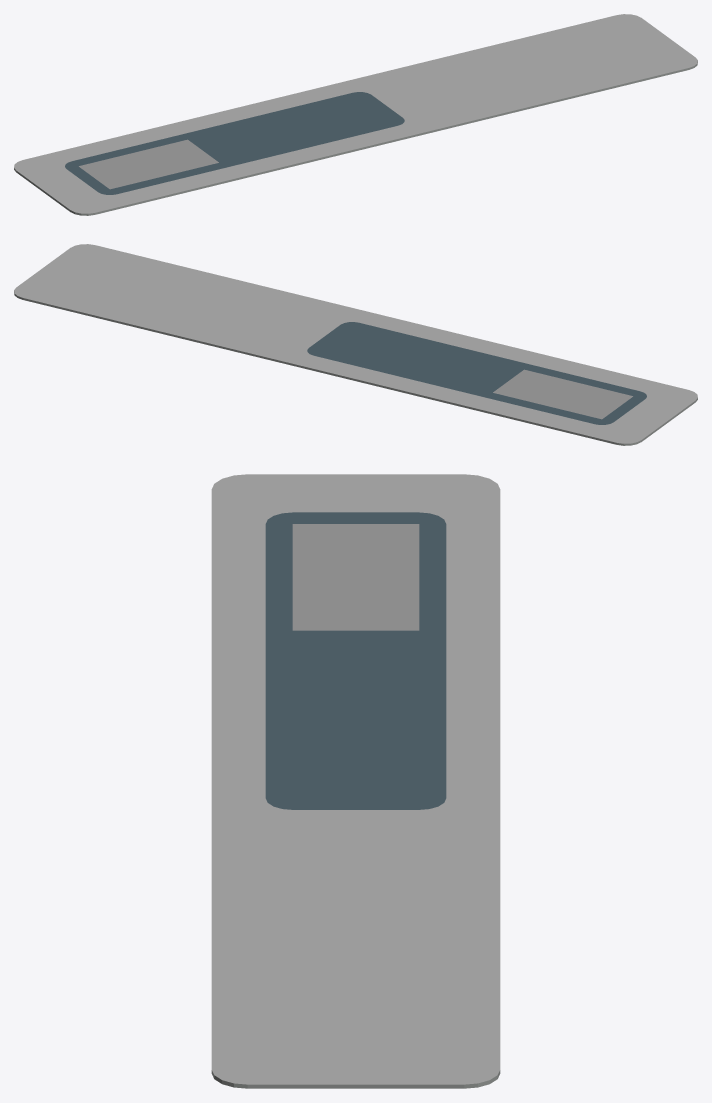
3 views of the same model, one above another, from view 1: azimuth 30°, elevation 25°; view 2: azimuth 150°, elevation 25°; view 3: azimuth 270°, elevation 25° (orthographic). The views are drawn at different scales.
Visible parts, largest first — view 1: world; view 2: world; view 3: world.
Boxes of the visible parts, <box> form: world: <box>14,14,697,215</box>; world: <box>14,244,697,445</box>; world: <box>211,474,500,1088</box>.
Size of the model in its own units: 0.032 by 0.0001 by 0.0064.
